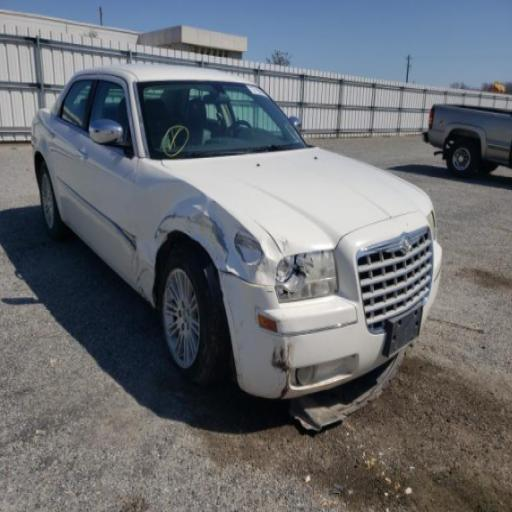dent: (150, 198, 240, 264), (231, 229, 278, 283)
rust: (266, 339, 299, 399)
scratch: (130, 254, 154, 302)
